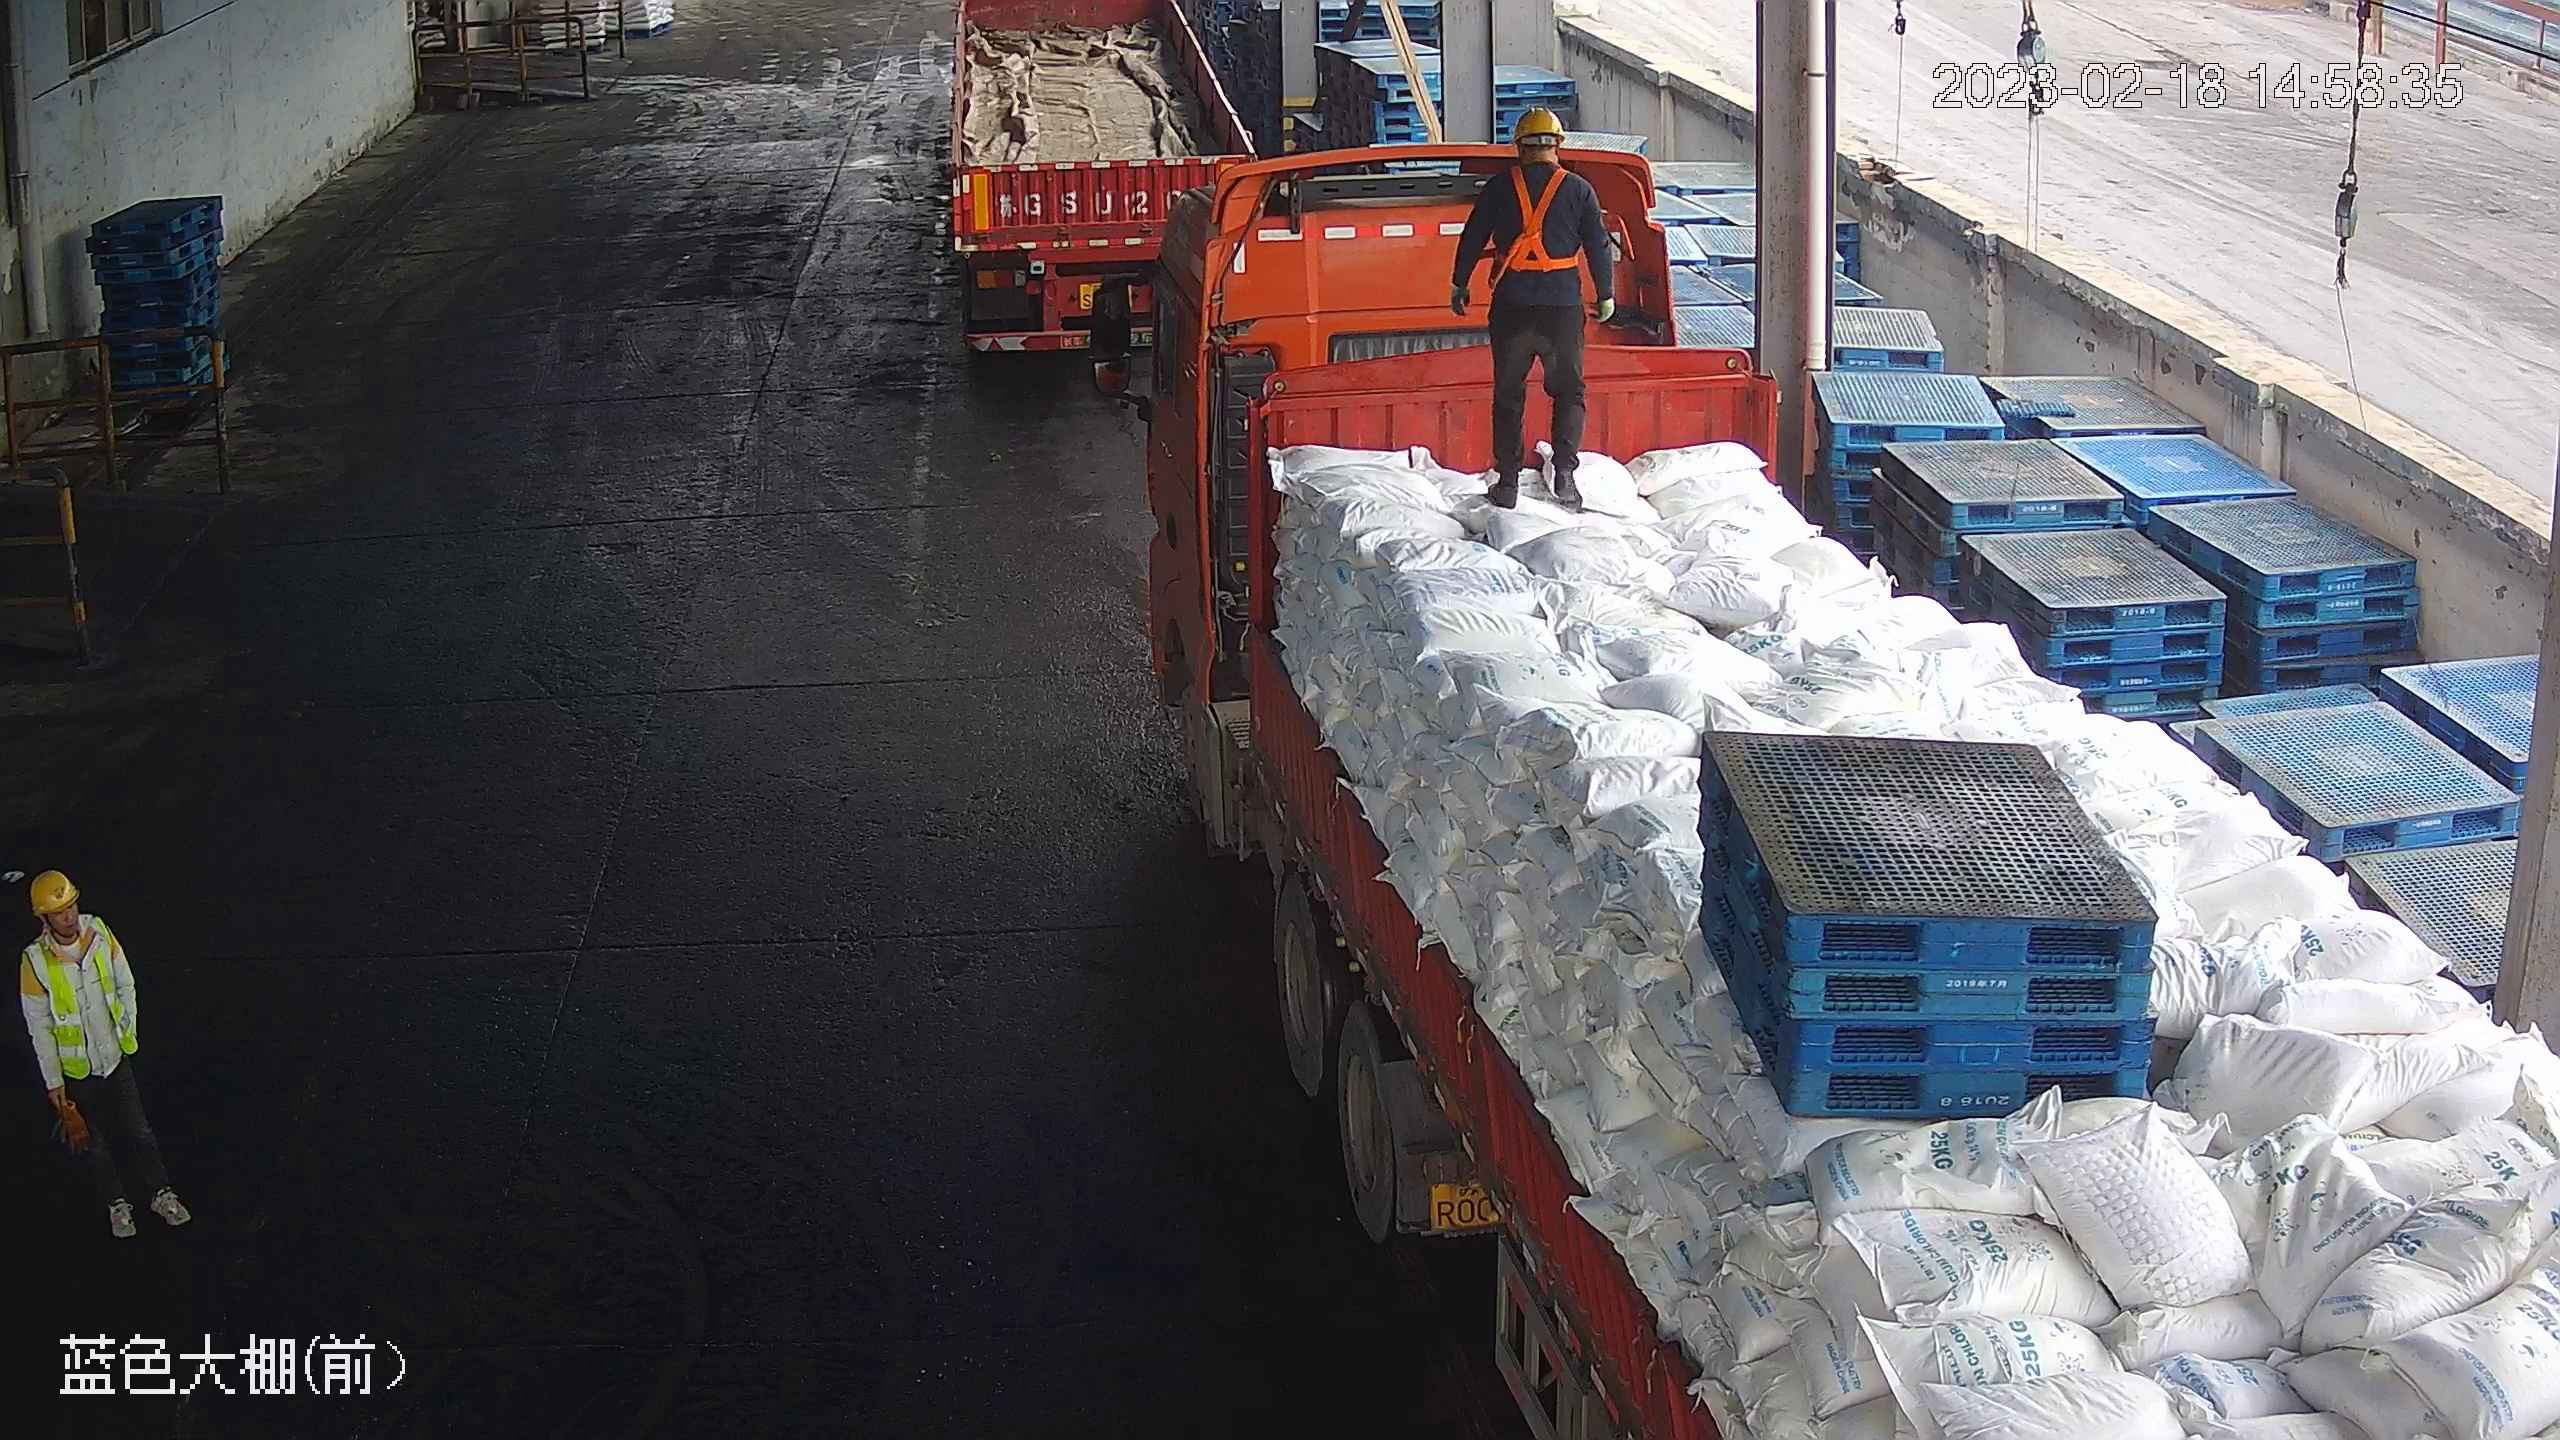belt: (1488, 164, 1589, 283)
head: (1463, 104, 1606, 234), (16, 868, 124, 985)
helmet: (21, 867, 78, 915), (1511, 105, 1566, 144)
people: (1450, 101, 1617, 515), (10, 862, 183, 1253)
truck: (1096, 171, 2560, 1440), (936, 4, 1279, 391)
